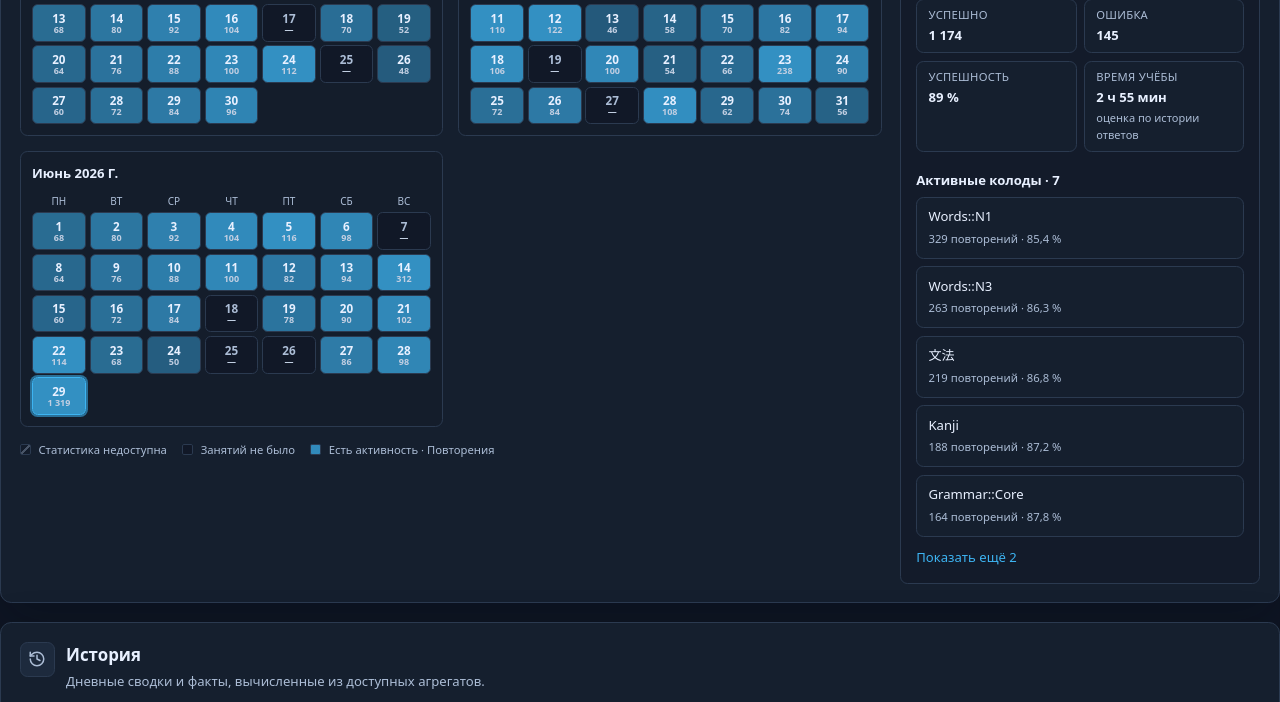
Activity / Calendar v2 › selects today by default and distinguishes active, inactive and unavailable details
The width and height of the screenshot is (1280, 702).
(page scrolled)
Click the 2nd button "25 —". click: point(231, 355)
box: [204,336,258,374]
(page scrolled)
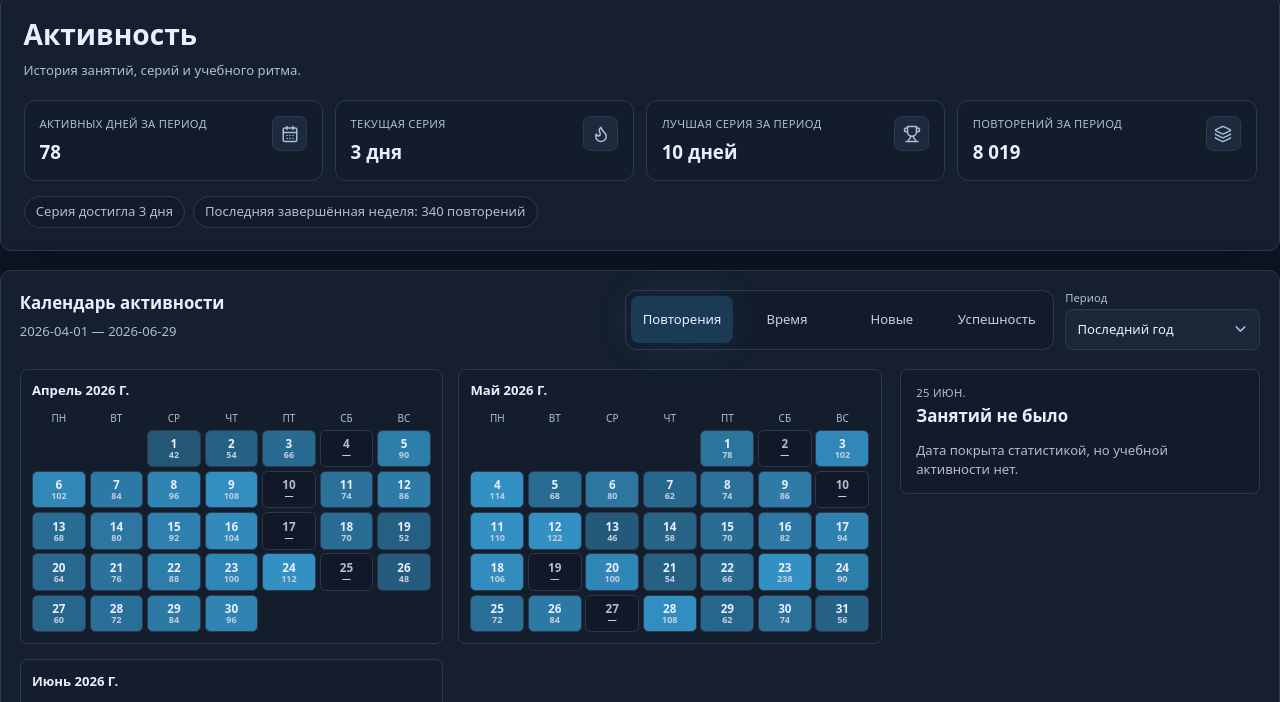
Expected: the element with test id "activity-day-detail" shows "Занятий не было", [916,404,1068,427]
Select "Последний год" in the dropdown with id "activity-period". click: point(1163, 329)
box: [1065,308,1260,350]
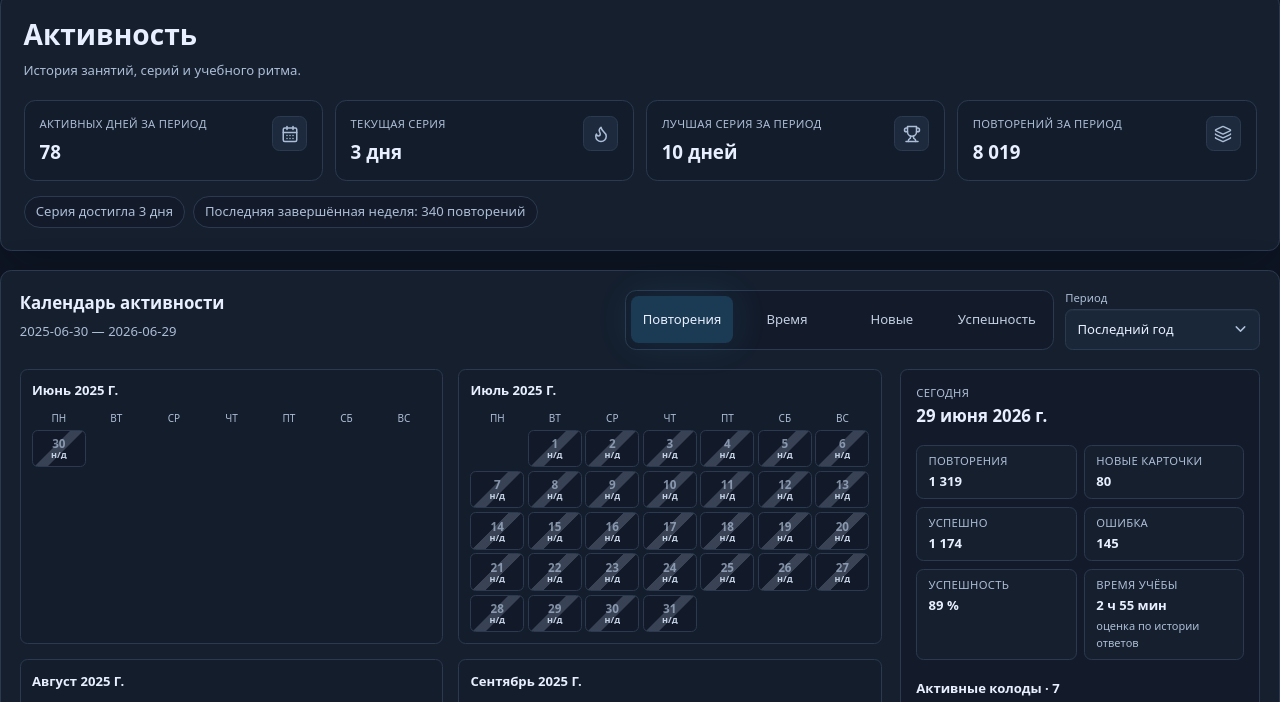
Click the button "1 н/д". click: point(555, 448)
box: [528,430,582,467]
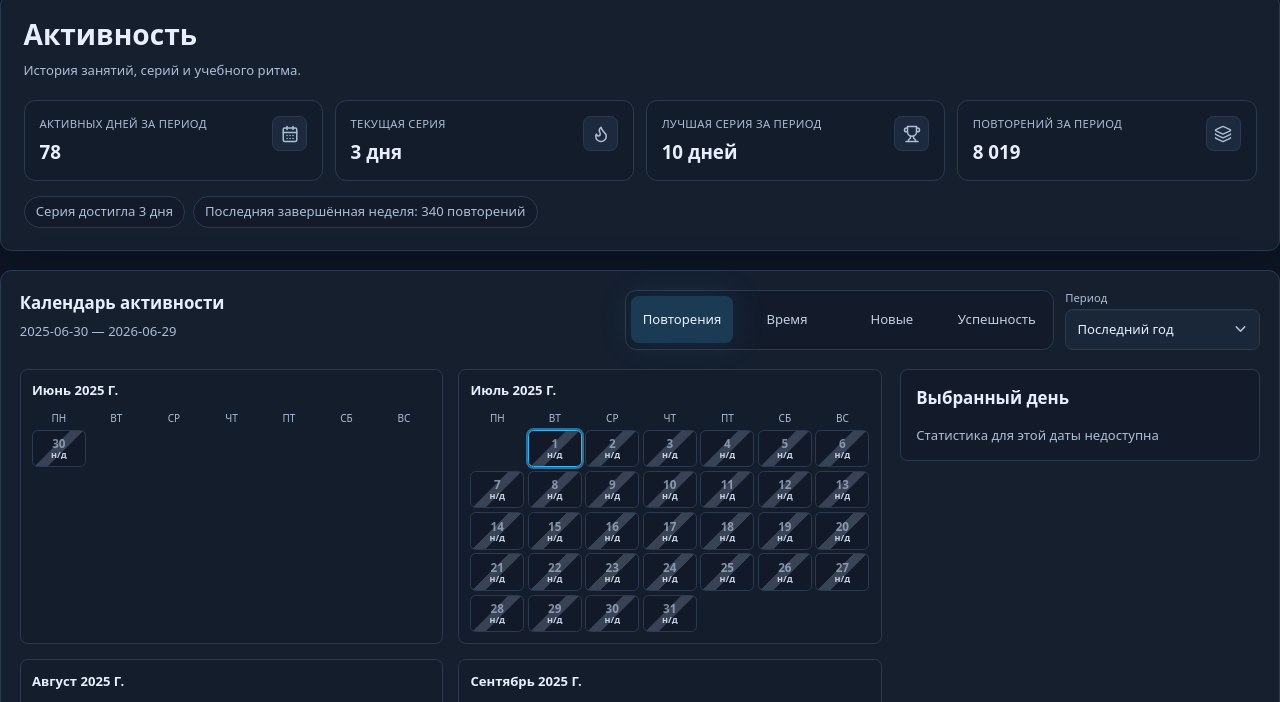
Expected: the element with test id "activity-day-detail" shows "Статистика для этой даты недоступна", [916,426,1159,444]
